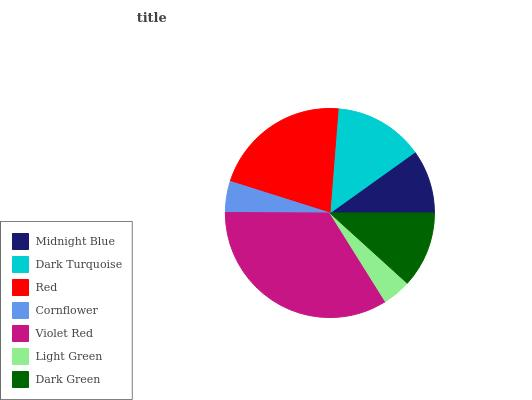legend: (0, 219, 131, 400)
sector: (224, 211, 385, 318), (231, 107, 340, 214), (331, 107, 416, 211), (332, 213, 436, 284), (330, 212, 407, 301), (331, 153, 434, 213), (224, 182, 329, 212)
